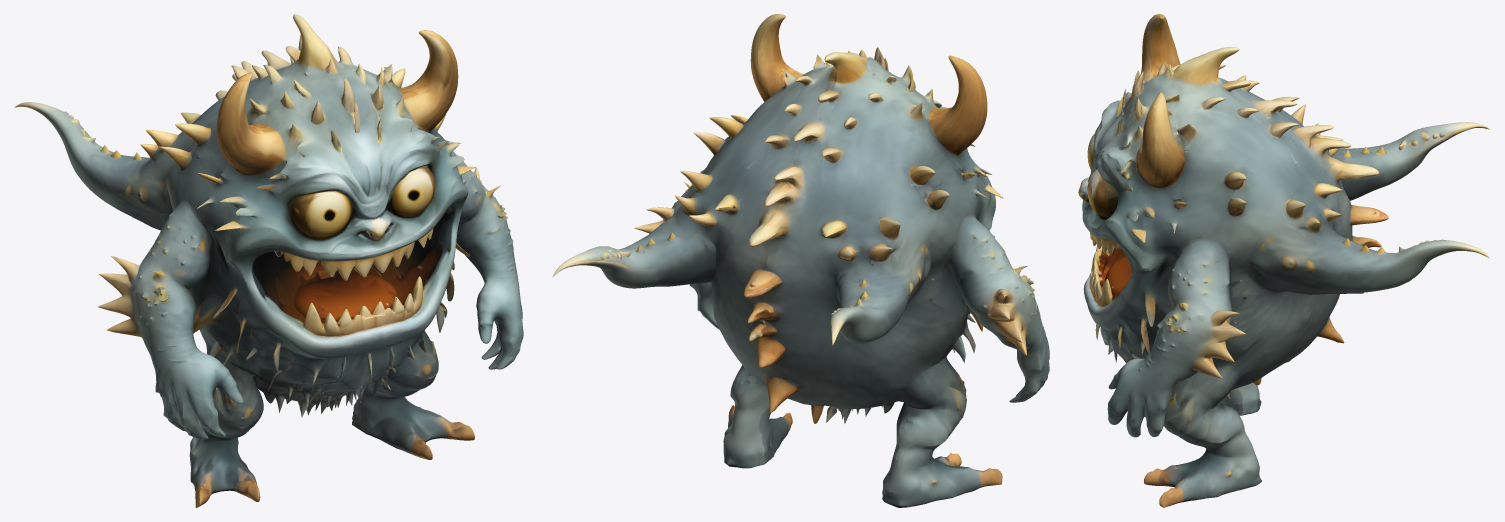
Rendered from Monster.fbx.
The picture shows the model from 3 angles, left to right: view 1: azimuth 30°, elevation 25°; view 2: azimuth 150°, elevation 25°; view 3: azimuth 270°, elevation 25°; orthographic projection. The views are drawn at different scales.
Parts seen in each view (by area): view 1: model; view 2: model; view 3: model.
Part boxes in pixels (<box>): model: <box>14,14,523,507</box>; model: <box>552,14,1049,507</box>; model: <box>1078,14,1490,507</box>.
Bounding box in the file's own units: 244 × 254 × 237.
1 material, 1 textured.
